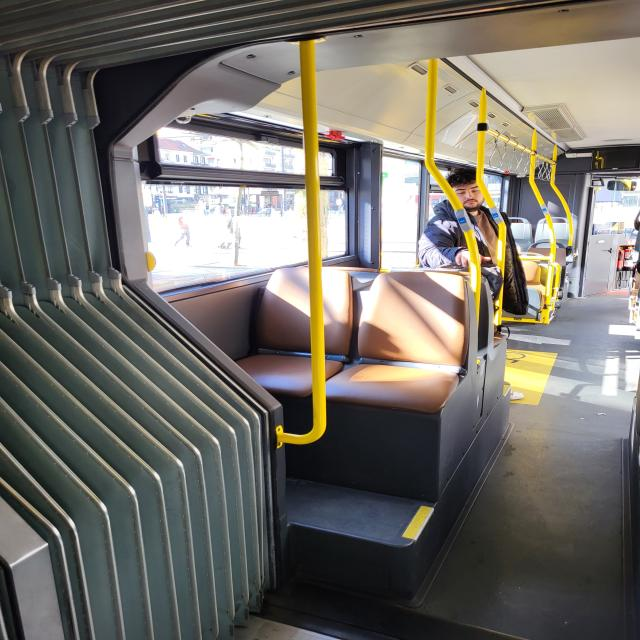empty-seat-frontal: (322, 269, 478, 415), (221, 251, 355, 405)
